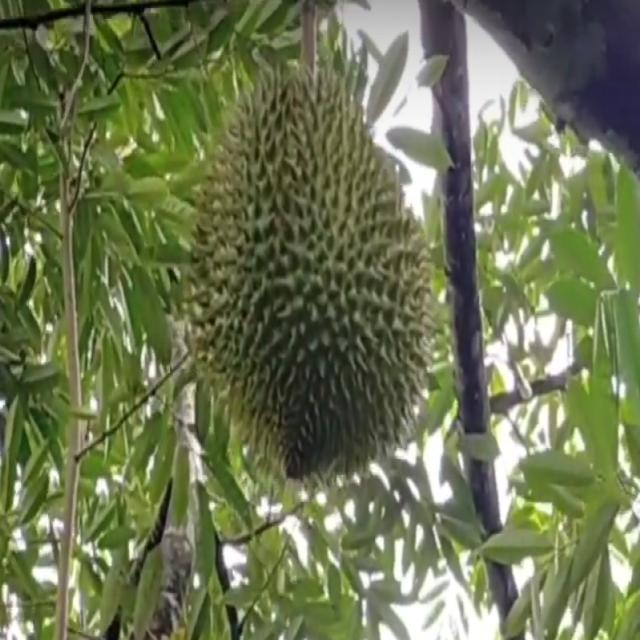immature: (184, 52, 434, 490)
